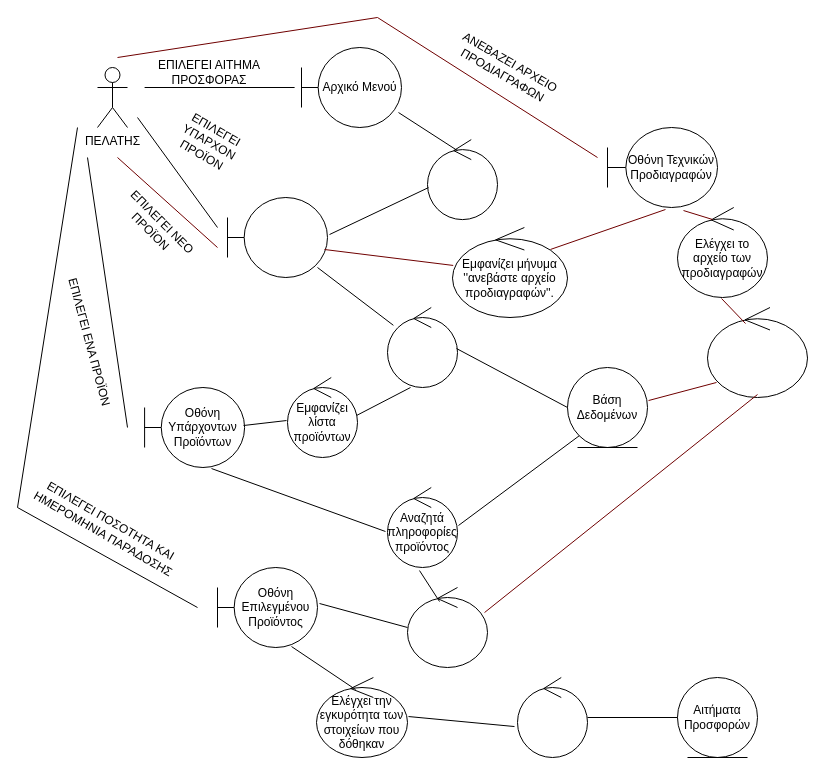
This 825x776 diagram has some shape labels left out. The shapes that lost their labels are listed below. From the top down, each one's centre as x and y in pixels, then its label:
pixel 462 179: Εμφανίζει επιλογές
pixel 277 237: Οθόνη Επιλογής Προϊόντων
pixel 422 347: Αναζητά υπάρχοντα προϊόντα
pixel 757 352: Αποθηκεύει το αρχείο προδιαγραφών
pixel 447 627: Εμφανίζει πληροφορίες
pixel 552 717: Καταχωρεί το αίτημα
